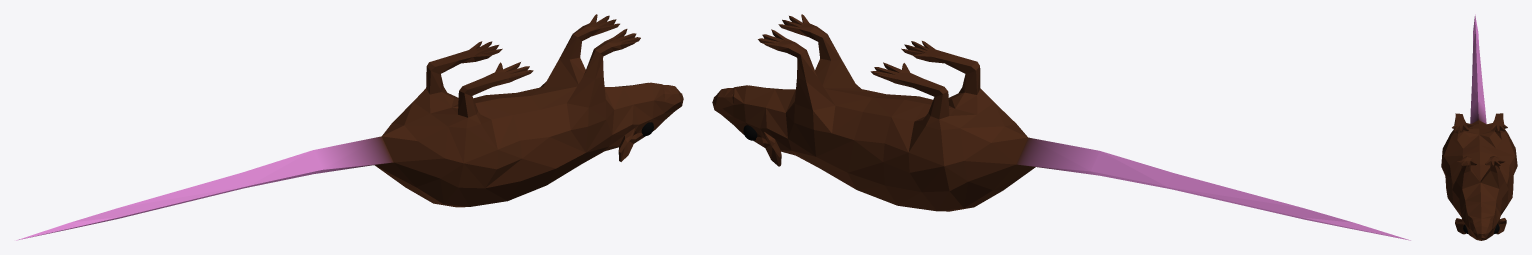
File: brown_rat.obj
3 renders of one model, left to right at view 1: azimuth 30°, elevation 25°; view 2: azimuth 150°, elevation 25°; view 3: azimuth 270°, elevation 25°, orthographic. The views are drawn at different scales.
Visible parts, largest first — view 1: rat; view 2: rat; view 3: rat.
Boxes of the visible parts, x1=… form: rat: x1=16, y1=14, x2=683, y2=240; rat: x1=712, y1=14, x2=1410, y2=240; rat: x1=1441, y1=14, x2=1517, y2=240.
Size of the model in its own units: 2.89 by 0.5725 by 0.4497.
